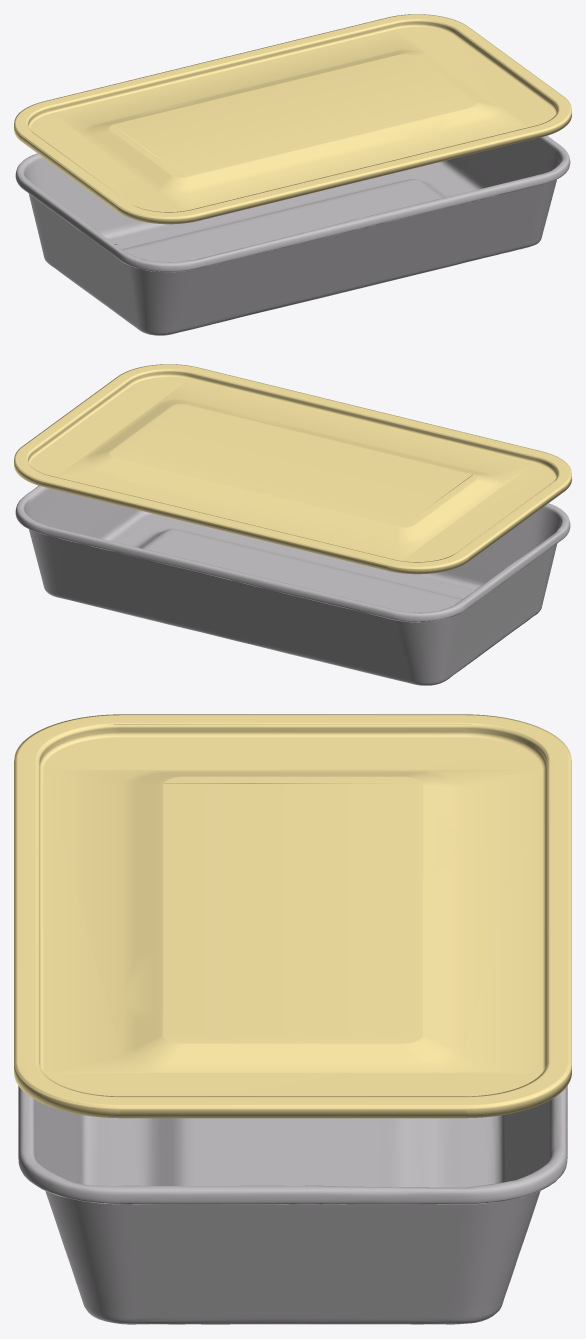
Rendered from lunchbox.FBX.
3 renders of one model, top to bottom at view 1: azimuth 30°, elevation 25°; view 2: azimuth 150°, elevation 25°; view 3: azimuth 270°, elevation 25°, orthographic. The views are drawn at different scales.
Parts seen in each view (by area): view 1: node_id6; view 2: node_id6; view 3: node_id6.
Part boxes in pixels (x1,y1,x2,y2): node_id6: (14, 14, 571, 335); node_id6: (14, 364, 571, 685); node_id6: (14, 714, 571, 1324).
Size of the model in its own units: 0.1828 by 0.0523 by 0.1098.
Materials: 1 (1 with a texture image).
